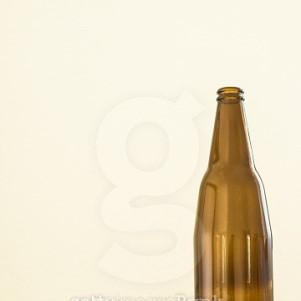beer: (193, 86, 275, 301)
